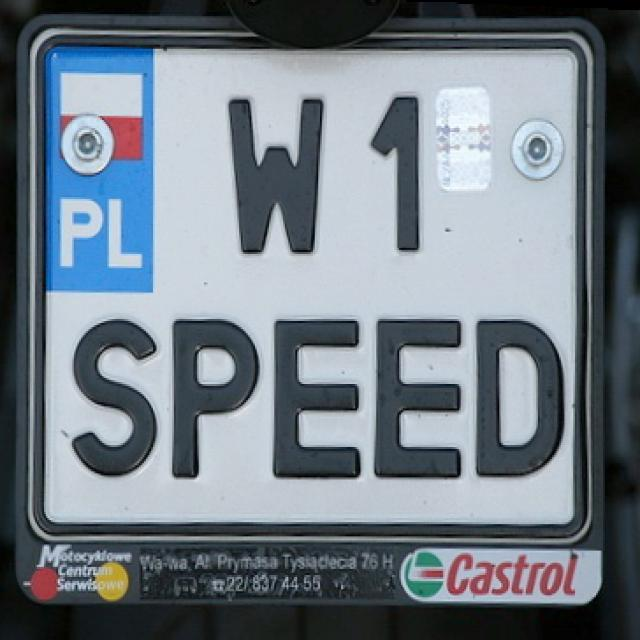pl_license_plate: (44, 45, 577, 524)
